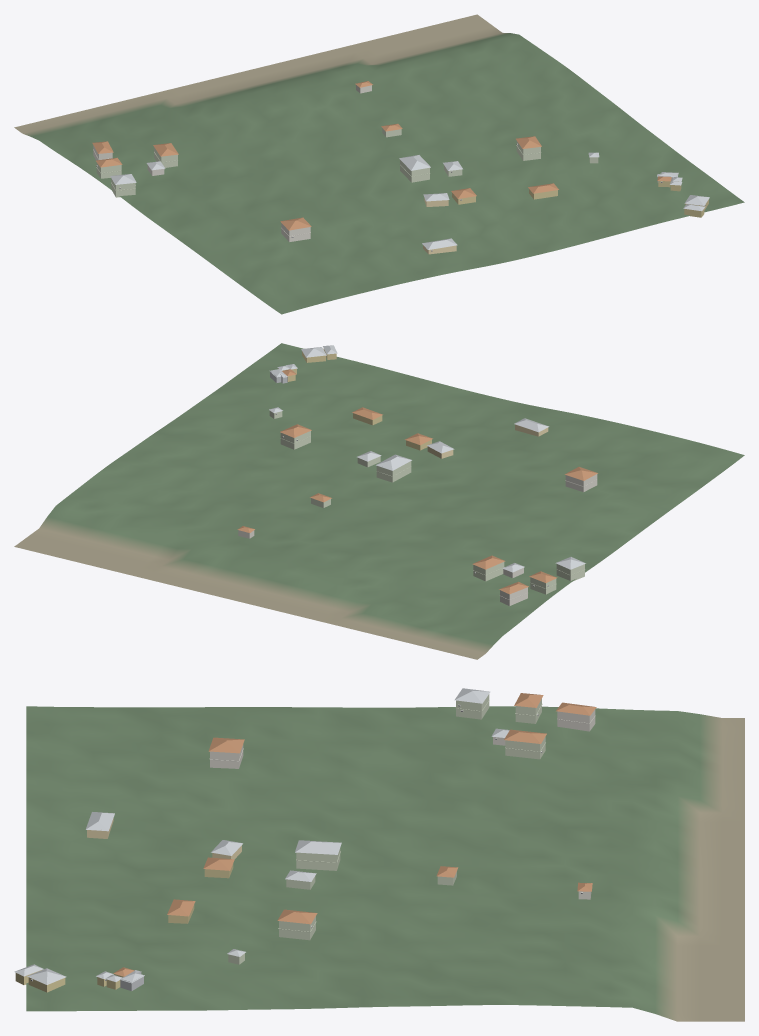
The picture shows the model from 3 angles, top to bottom: view 1: azimuth 30°, elevation 25°; view 2: azimuth 150°, elevation 25°; view 3: azimuth 270°, elevation 25°; orthographic projection. The views are drawn at different scales.
Parts seen in each view (by area): view 1: Terrain-col, Buildings-col; view 2: Terrain-col, Buildings-col; view 3: Terrain-col, Buildings-col.
Boxes of the visible parts, x1=… form: Terrain-col: x1=14, y1=14, x2=744, y2=314; Buildings-col: x1=92, y1=81, x2=709, y2=254; Terrain-col: x1=14, y1=343, x2=744, y2=659; Buildings-col: x1=237, y1=345, x2=597, y2=606; Terrain-col: x1=26, y1=706, x2=744, y2=1021; Buildings-col: x1=14, y1=688, x2=596, y2=992.
Bounding box in the file's own units: 258 × 13.98 × 260.
